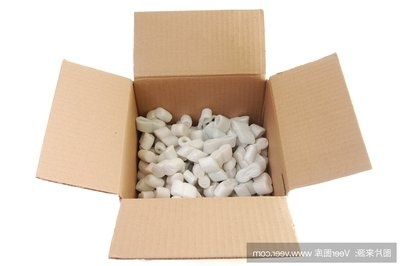5/可回收垃圾/泡沫: (135, 106, 275, 198)
